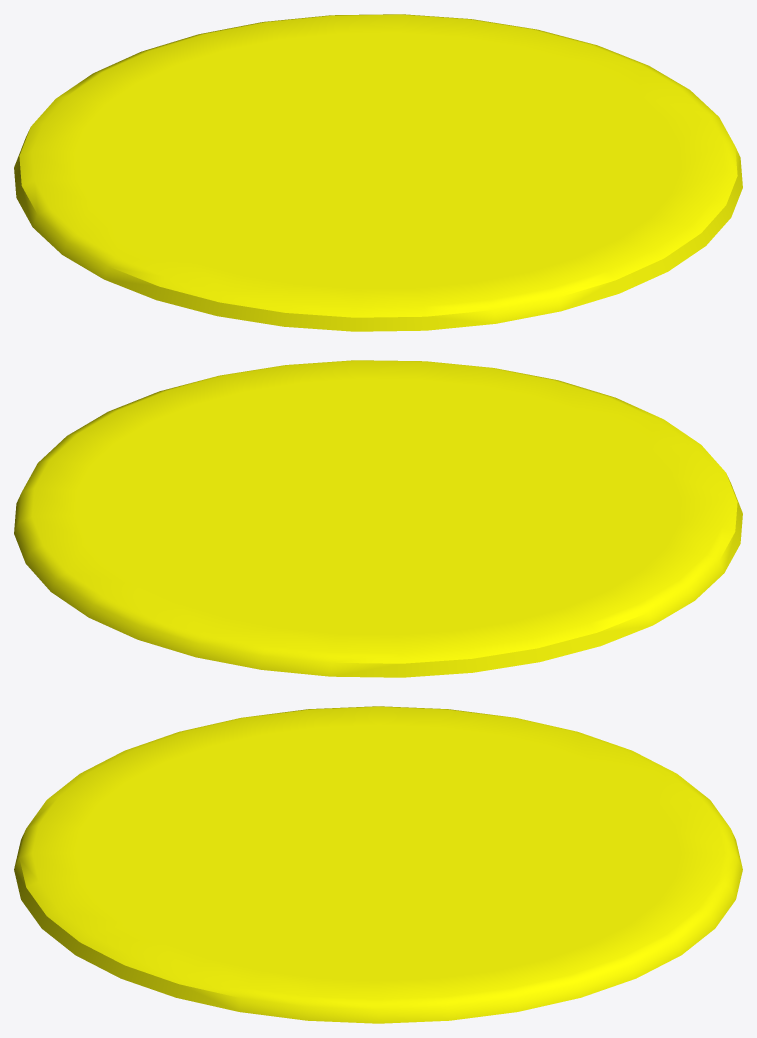
The model's file is kaykit-carpet-round-small.glb.
The picture shows the model from 3 angles, top to bottom: view 1: azimuth 30°, elevation 25°; view 2: azimuth 150°, elevation 25°; view 3: azimuth 270°, elevation 25°; orthographic projection.
Visible parts, largest first — view 1: carpet_round_small; view 2: carpet_round_small; view 3: carpet_round_small.
Part boxes in pixels (x1,y1,x2,y2): carpet_round_small: (14, 14, 742, 331); carpet_round_small: (14, 360, 742, 677); carpet_round_small: (14, 706, 742, 1023).
Size of the model in its own units: 2 by 0.0501 by 2.
